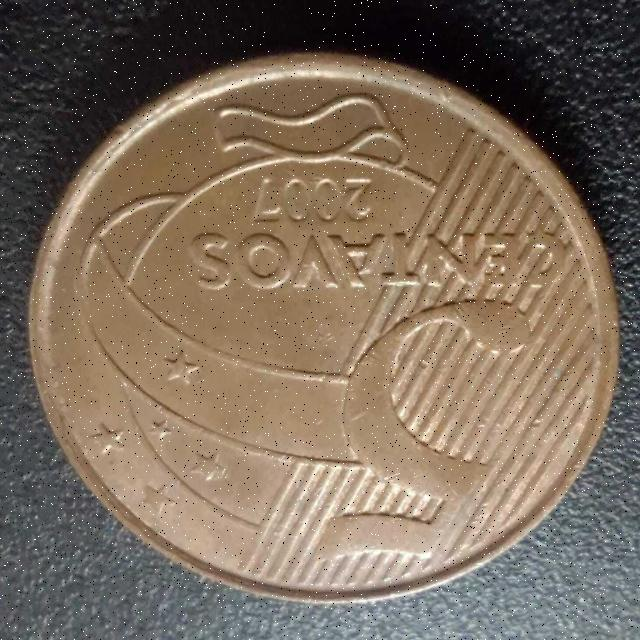5 cent: (28, 48, 618, 608)
